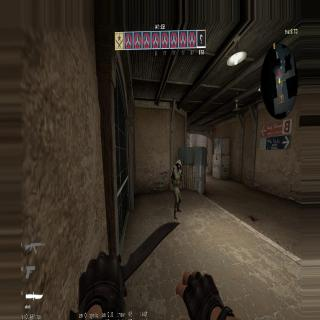CT-Body: (171, 157, 183, 220)
CT-Head: (175, 159, 181, 170)
